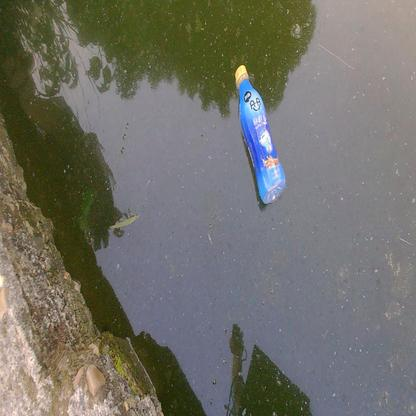plastic bottle: (233, 64, 287, 205)
